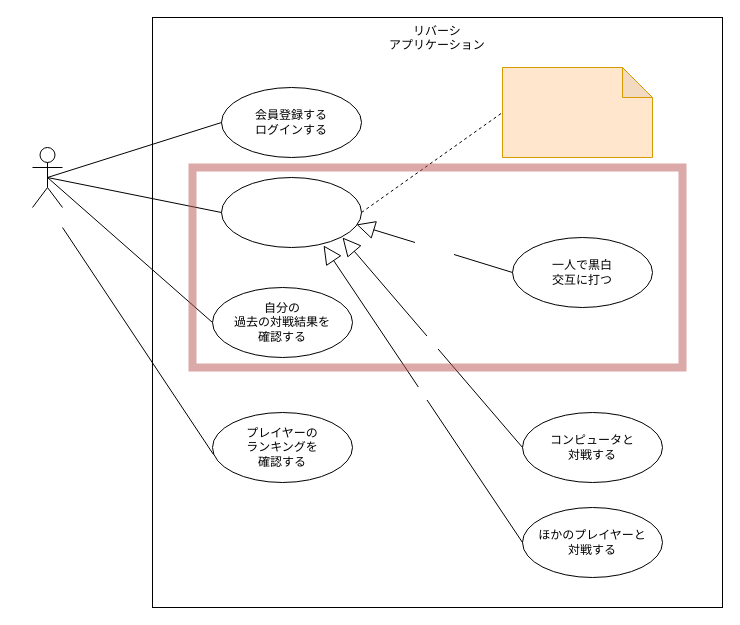
Image size: 740x625. Some labels were removed from this diagram. Each missing label, with the centre of its shape:
"プレイヤー" goes at point (47, 177).
"・対戦を開始する ・盤面を見る ・石を打つ ・勝敗を確認する" goes at point (577, 112).
"対戦する" goes at point (291, 212).
